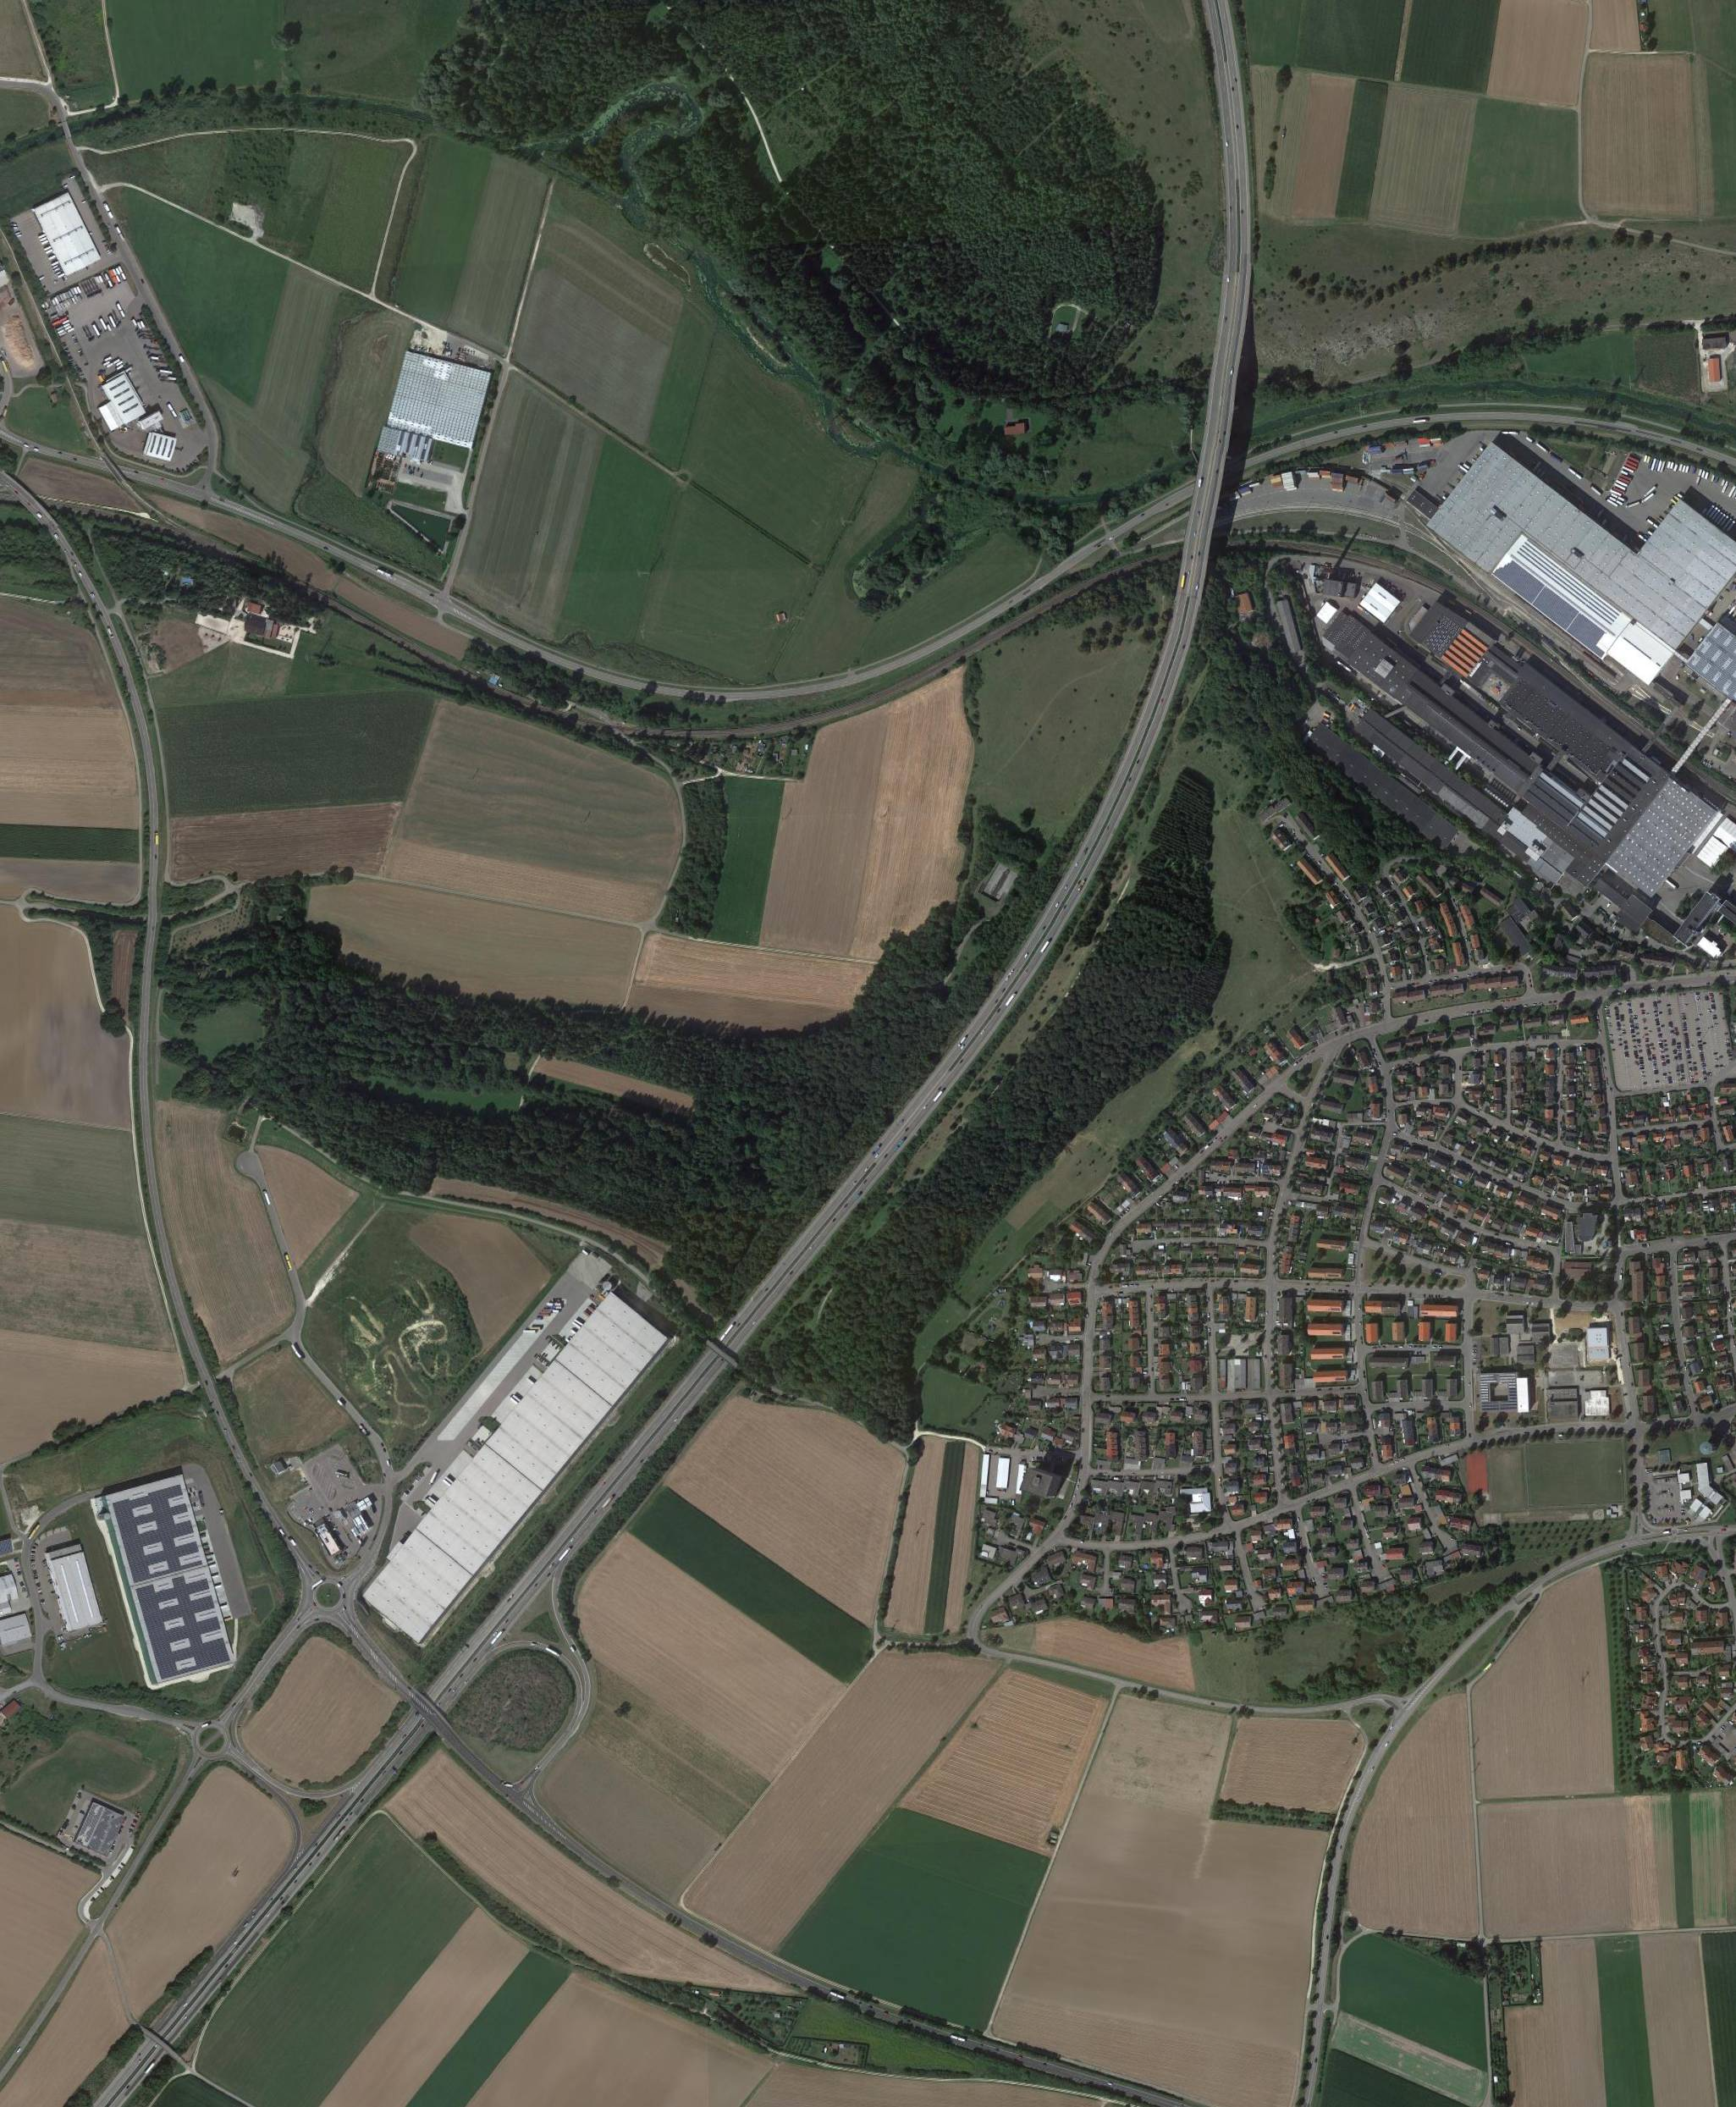roundabout: (191, 1718, 234, 1762), (308, 1571, 346, 1619)
